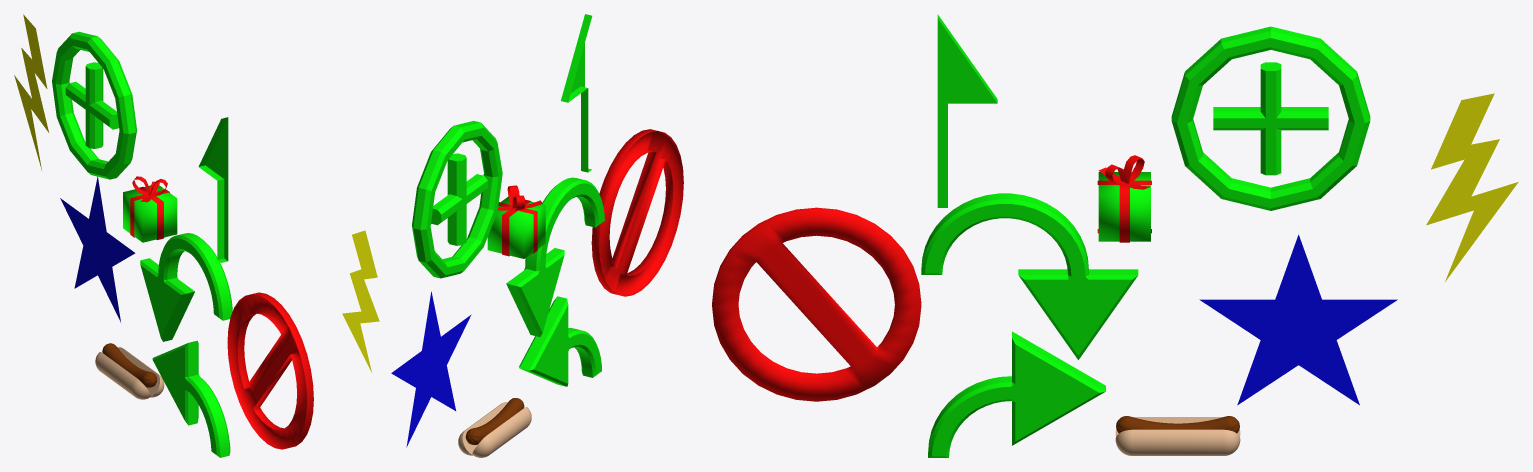
The model's file is LowPolyPickUps.glb.
3 renders of one model, left to right at view 1: azimuth 30°, elevation 25°; view 2: azimuth 150°, elevation 25°; view 3: azimuth 270°, elevation 25°, orthographic. The views are drawn at different scales.
Parts seen in each view (by area): view 1: HealthPickup, JustDont, ArrowTurnAroundLeft, ArrowTurnLeft, StarPickup, GiftBox, HotDog, ArrowUp, EnergyPickup; view 2: JustDont, HealthPickup, ArrowTurnAroundLeft, StarPickup, ArrowTurnLeft, GiftBox, HotDog, EnergyPickup, ArrowUp; view 3: JustDont, HealthPickup, StarPickup, ArrowTurnAroundLeft, ArrowTurnLeft, EnergyPickup, HotDog, GiftBox, ArrowUp.
Boxes of the visible parts, x1,y1,x2,y2 form: HealthPickup: (52, 31, 136, 179); JustDont: (227, 292, 313, 449); ArrowTurnAroundLeft: (140, 233, 232, 341); ArrowTurnLeft: (152, 340, 230, 457); StarPickup: (60, 177, 135, 322); GiftBox: (123, 176, 177, 242); HotDog: (95, 343, 164, 399); ArrowUp: (198, 117, 228, 262); EnergyPickup: (14, 14, 48, 170); JustDont: (591, 129, 683, 296); HealthPickup: (412, 121, 502, 278); ArrowTurnAroundLeft: (506, 177, 604, 336); StarPickup: (391, 291, 471, 447); ArrowTurnLeft: (519, 296, 601, 386); GiftBox: (487, 185, 545, 258); HotDog: (458, 398, 531, 457); EnergyPickup: (342, 230, 379, 372); ArrowUp: (561, 14, 592, 172); JustDont: (712, 207, 921, 401); HealthPickup: (1171, 26, 1370, 210); StarPickup: (1199, 234, 1397, 405); ArrowTurnAroundLeft: (921, 193, 1138, 359); ArrowTurnLeft: (928, 331, 1105, 457); EnergyPickup: (1426, 93, 1518, 281); HotDog: (1115, 416, 1240, 455); GiftBox: (1097, 155, 1151, 242); ArrowUp: (937, 14, 997, 207).
Bounding box in the file's own units: 5.2 × 46.52 × 77.12.
